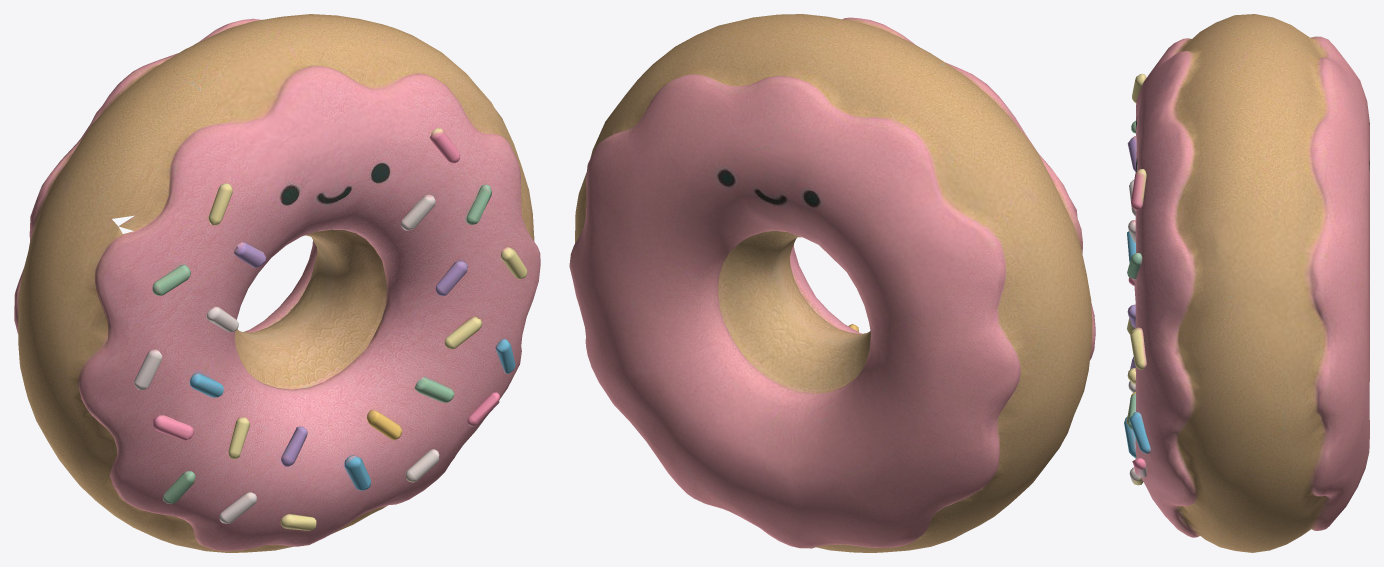
Rendered from donut.glb.
The picture shows the model from 3 angles, left to right: view 1: azimuth 30°, elevation 25°; view 2: azimuth 150°, elevation 25°; view 3: azimuth 270°, elevation 25°; orthographic projection. The views are drawn at different scales.
Size of the model in its own units: 0.9565 by 0.9492 by 0.4341.
1 material, 1 textured.
